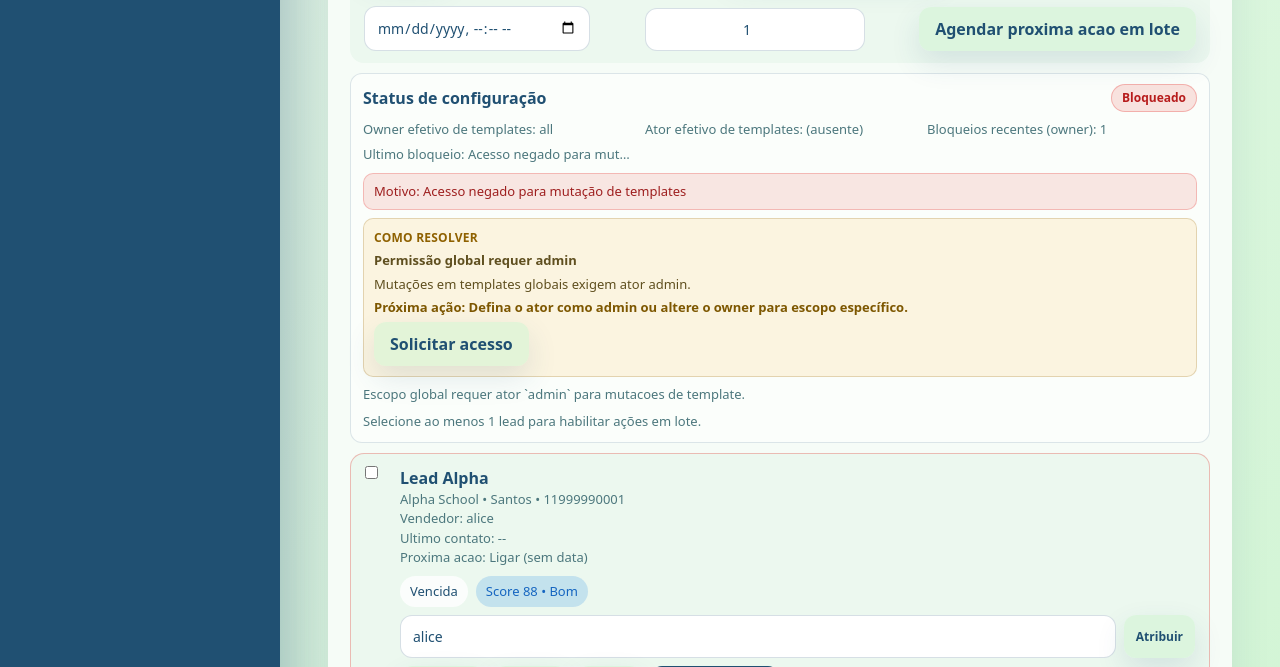
Test: SDR page › submits access request from remediation block and shows confirmation
The image size is (1280, 667).
(page scrolled)
Step 1. Click the button "Solicitar acesso" → (451, 344), box x1=374 y1=322 x2=529 y2=366
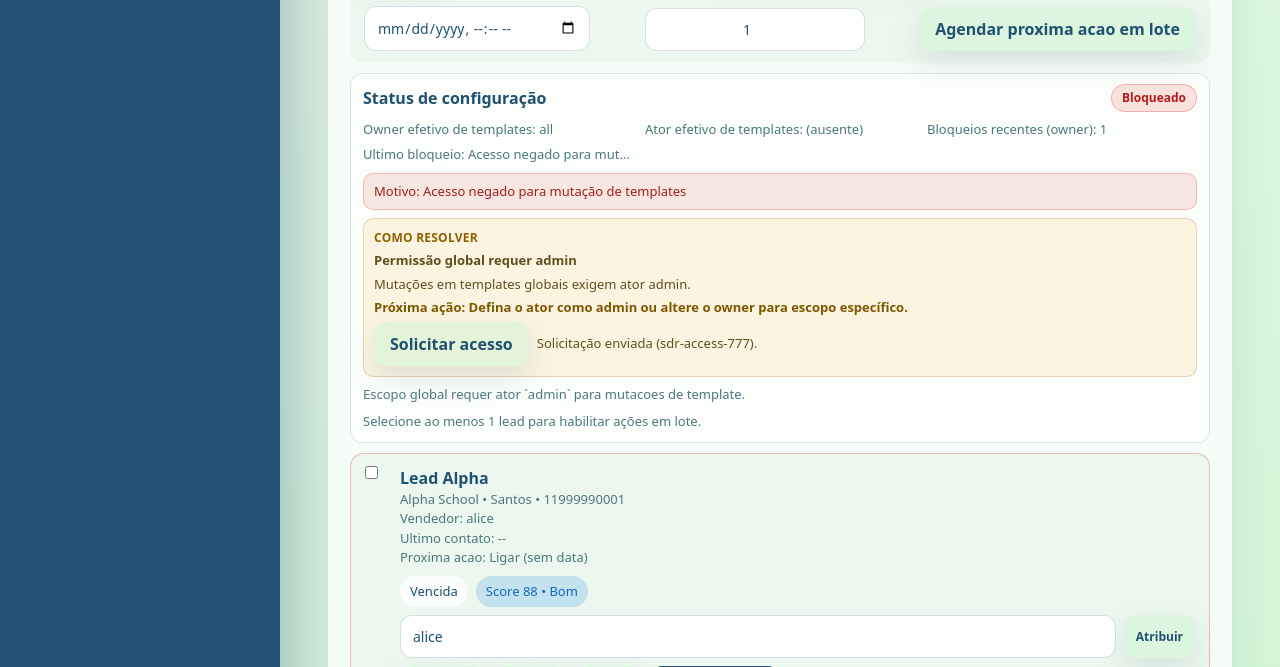
Now the text "Solicitação enviada (sdr-access-777)." is shown, box x1=537 y1=334 x2=757 y2=353
